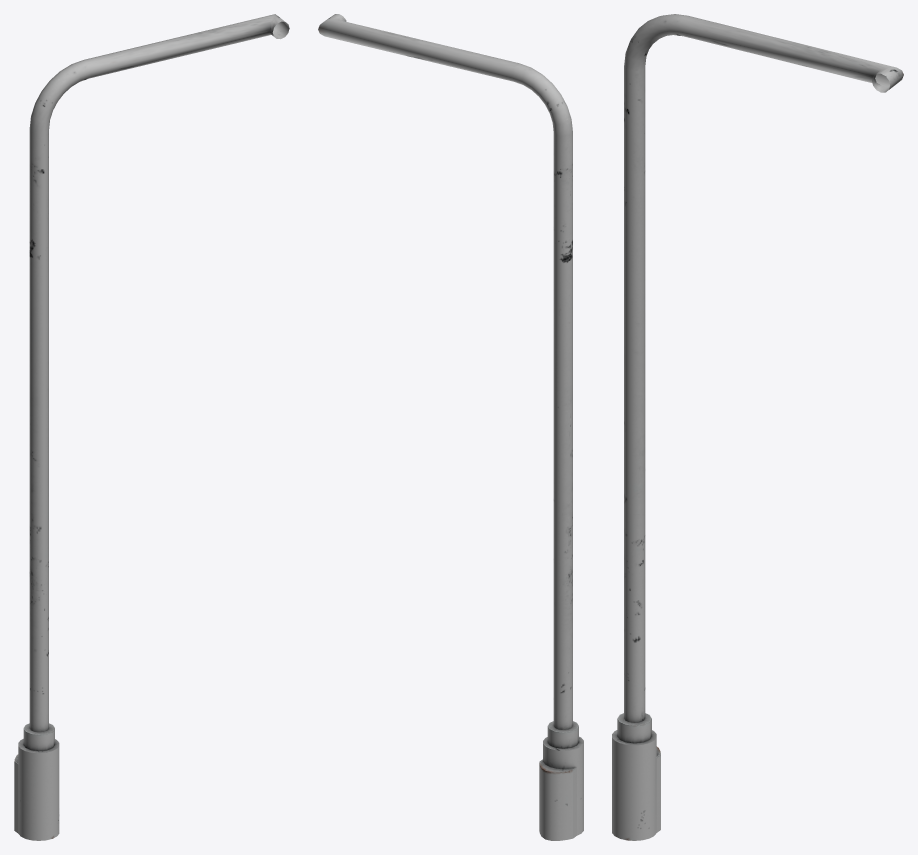
File: Prop_ElectricBox_06.fbx
3 renders of one model, left to right at view 1: azimuth 30°, elevation 25°; view 2: azimuth 150°, elevation 25°; view 3: azimuth 330°, elevation 25°, orthographic. The views are drawn at different scales.
Parts seen in each view (by area): view 1: Prop_ElectricBox_06; view 2: Prop_ElectricBox_06; view 3: Prop_ElectricBox_06.
Boxes of the visible parts, x1,y1,x2,y2 form: Prop_ElectricBox_06: [14, 14, 289, 840]; Prop_ElectricBox_06: [318, 14, 583, 840]; Prop_ElectricBox_06: [612, 14, 903, 840].
Bounding box in the file's own units: 27.05 × 75.31 × 4.59.
